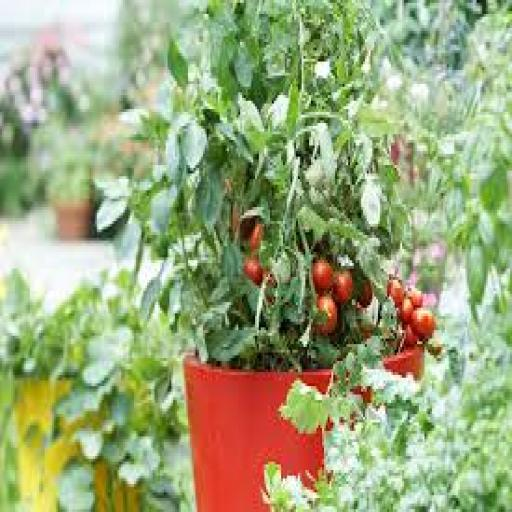tomato: (317, 294, 338, 335), (412, 308, 435, 338), (334, 269, 353, 304), (313, 261, 333, 293), (263, 269, 277, 304), (244, 258, 262, 285), (388, 277, 404, 307), (399, 297, 415, 324), (358, 280, 374, 307), (248, 222, 262, 251), (241, 219, 256, 240), (427, 339, 443, 358), (405, 325, 418, 346), (231, 205, 240, 235), (263, 269, 277, 288), (408, 289, 422, 307), (390, 140, 400, 165)
